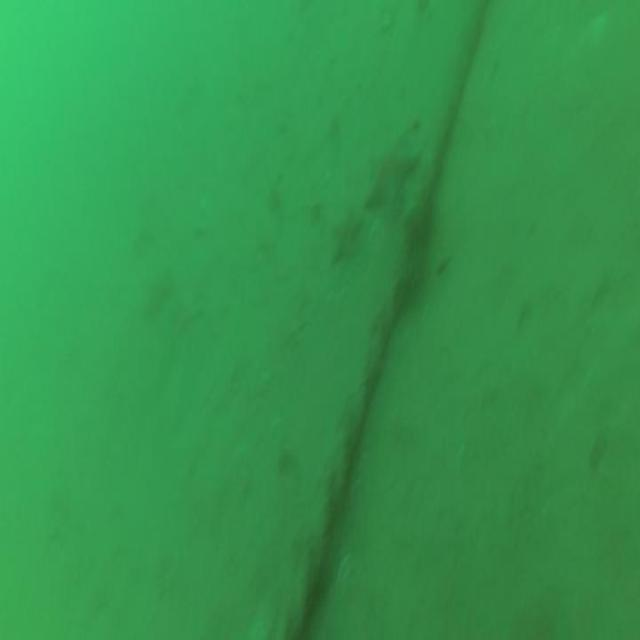starfish: (363, 140, 418, 212), (332, 212, 362, 270)
